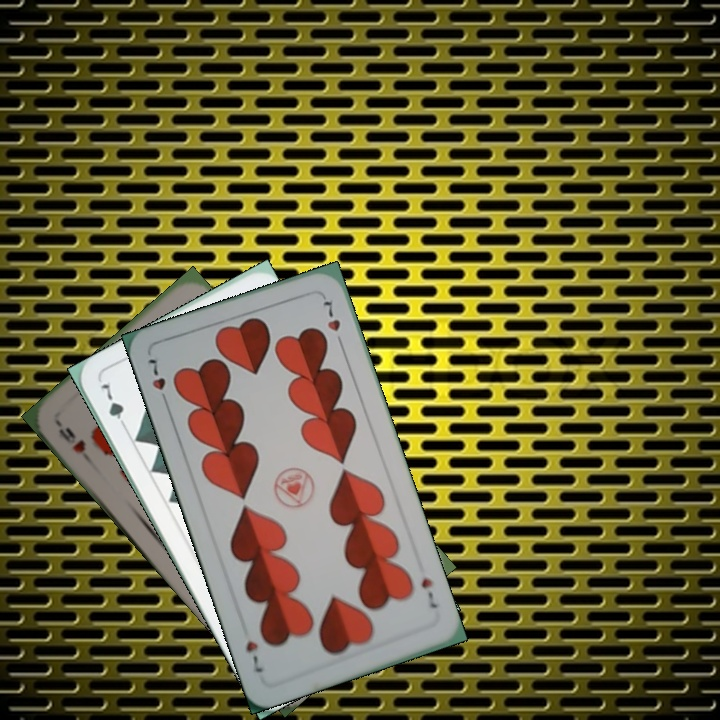G7: (96, 379, 130, 433)
H7: (144, 354, 172, 409), (417, 573, 440, 611)
H9: (52, 417, 89, 456)
